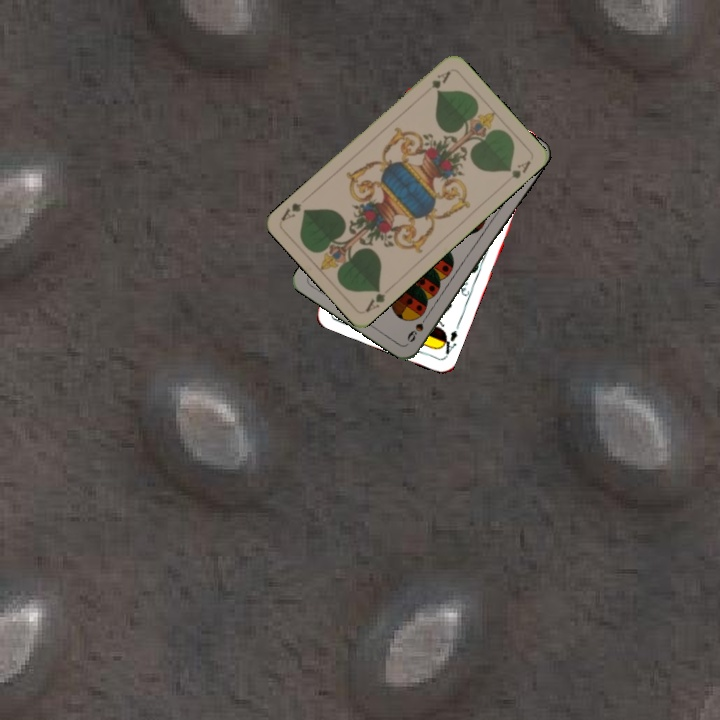EA: (436, 320, 462, 359)
GA: (419, 67, 453, 98), (361, 283, 388, 315)
S9: (403, 309, 432, 345)
